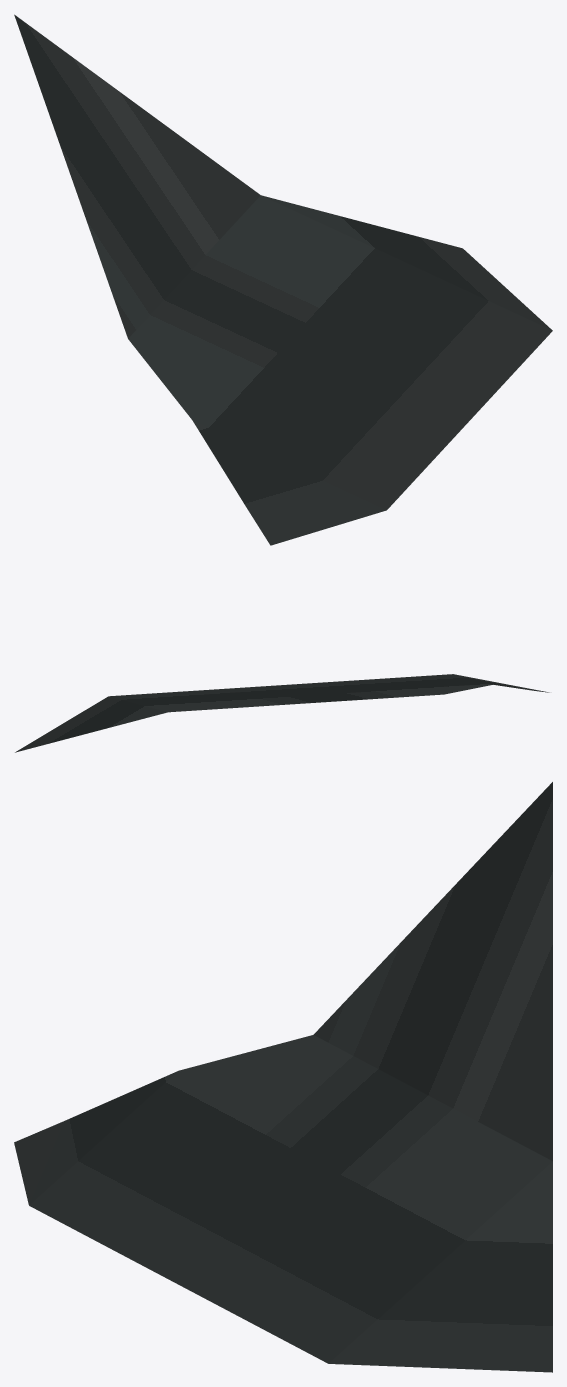
The picture shows the model from 3 angles, top to bottom: view 1: azimuth 30°, elevation 25°; view 2: azimuth 150°, elevation 25°; view 3: azimuth 270°, elevation 25°; orthographic projection. The views are drawn at different scales.
Size of the model in its own units: 0.4545 by 0.3325 by 0.45.
Materials: 1 (1 with a texture image).
